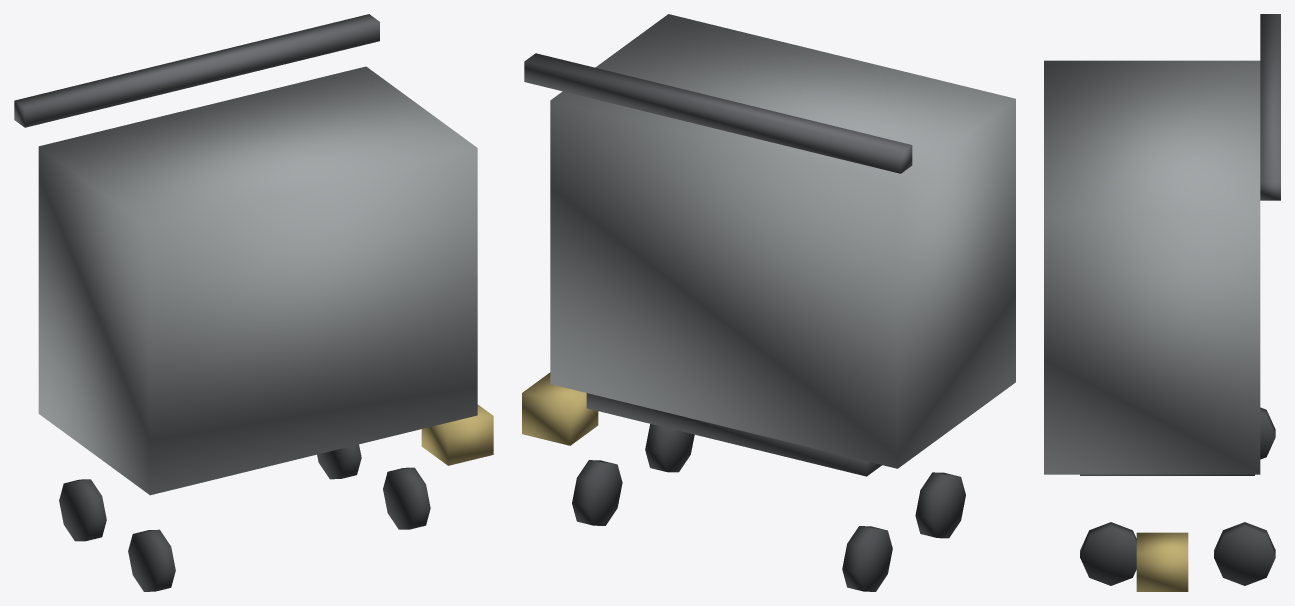
File: grocery_cart_14.glb
3 renders of one model, left to right at view 1: azimuth 30°, elevation 25°; view 2: azimuth 150°, elevation 25°; view 3: azimuth 270°, elevation 25°, orthographic. The views are drawn at different scales.
Parts seen in each view (by area): view 1: world; view 2: world; view 3: world.
Part boxes in pixels (left/top/right/bottom): world: left=14, top=14, right=493, bottom=591; world: left=522, top=14, right=1015, bottom=591; world: left=1044, top=14, right=1280, bottom=591.
Bounding box in the file's own units: 0.8544 × 0.882 × 0.4462.
